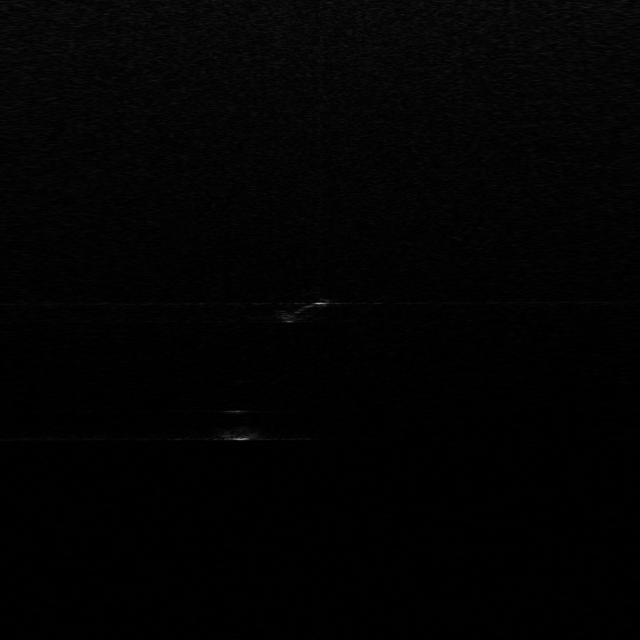ball: (210, 410, 260, 440)
tyre: (279, 289, 327, 323)
